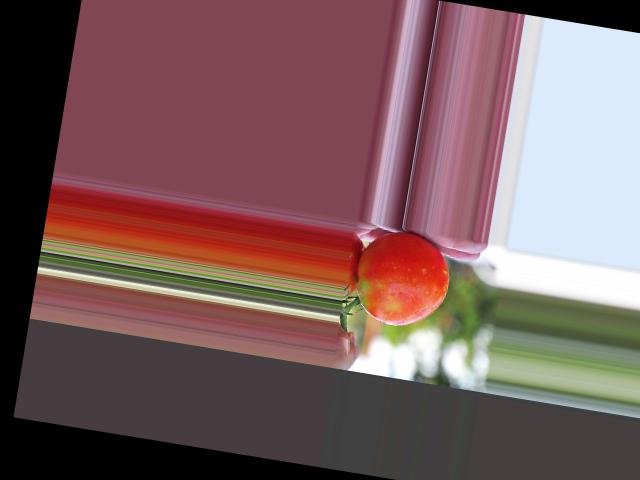tomato: (350, 226, 455, 332)
